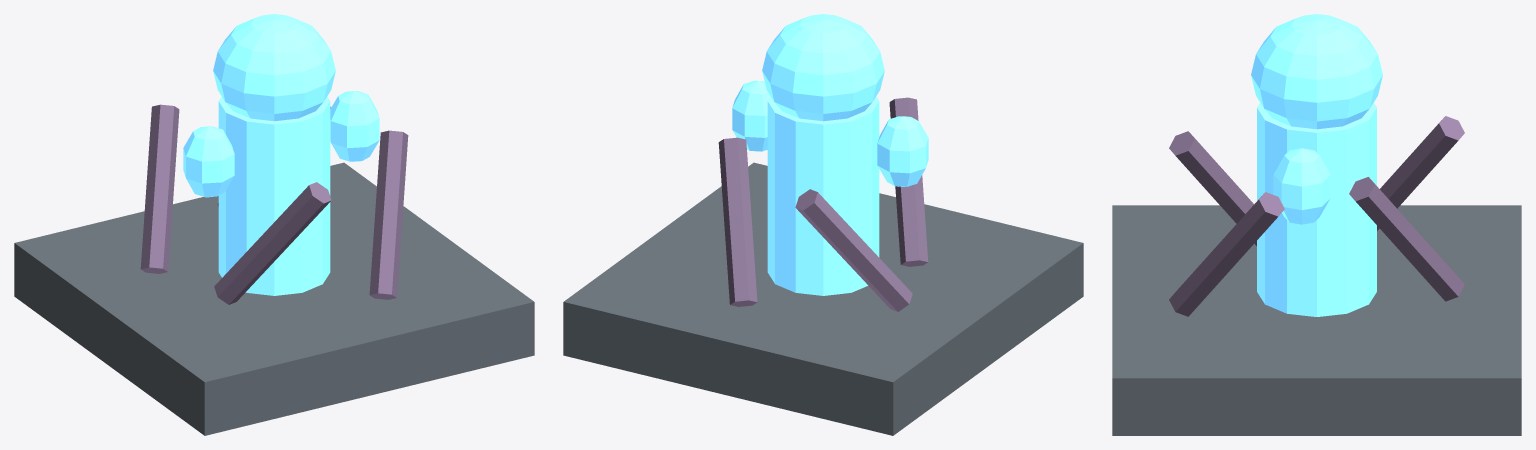
File: elf_kraken.glb
3 renders of one model, left to right at view 1: azimuth 30°, elevation 25°; view 2: azimuth 150°, elevation 25°; view 3: azimuth 270°, elevation 25°, orthographic. The views are drawn at different scales.
Visible parts, largest first — view 1: elf_krakenMesh, BodyGlow, BodyMesh; view 2: elf_krakenMesh, BodyGlow, BodyMesh; view 3: elf_krakenMesh, BodyGlow, BodyMesh.
Boxes of the visible parts, x1=… form: elf_krakenMesh: x1=14, y1=162, x2=534, y2=435; BodyGlow: x1=183, y1=14, x2=379, y2=295; BodyMesh: x1=140, y1=104, x2=408, y2=304; elf_krakenMesh: x1=563, y1=162, x2=1083, y2=435; BodyGlow: x1=732, y1=14, x2=928, y2=295; BodyMesh: x1=718, y1=97, x2=928, y2=311; elf_krakenMesh: x1=1112, y1=205, x2=1521, y2=435; BodyGlow: x1=1251, y1=14, x2=1382, y2=316; BodyMesh: x1=1169, y1=116, x2=1464, y2=316.
Size of the model in its own units: 1.8 by 1.6 by 1.8.
